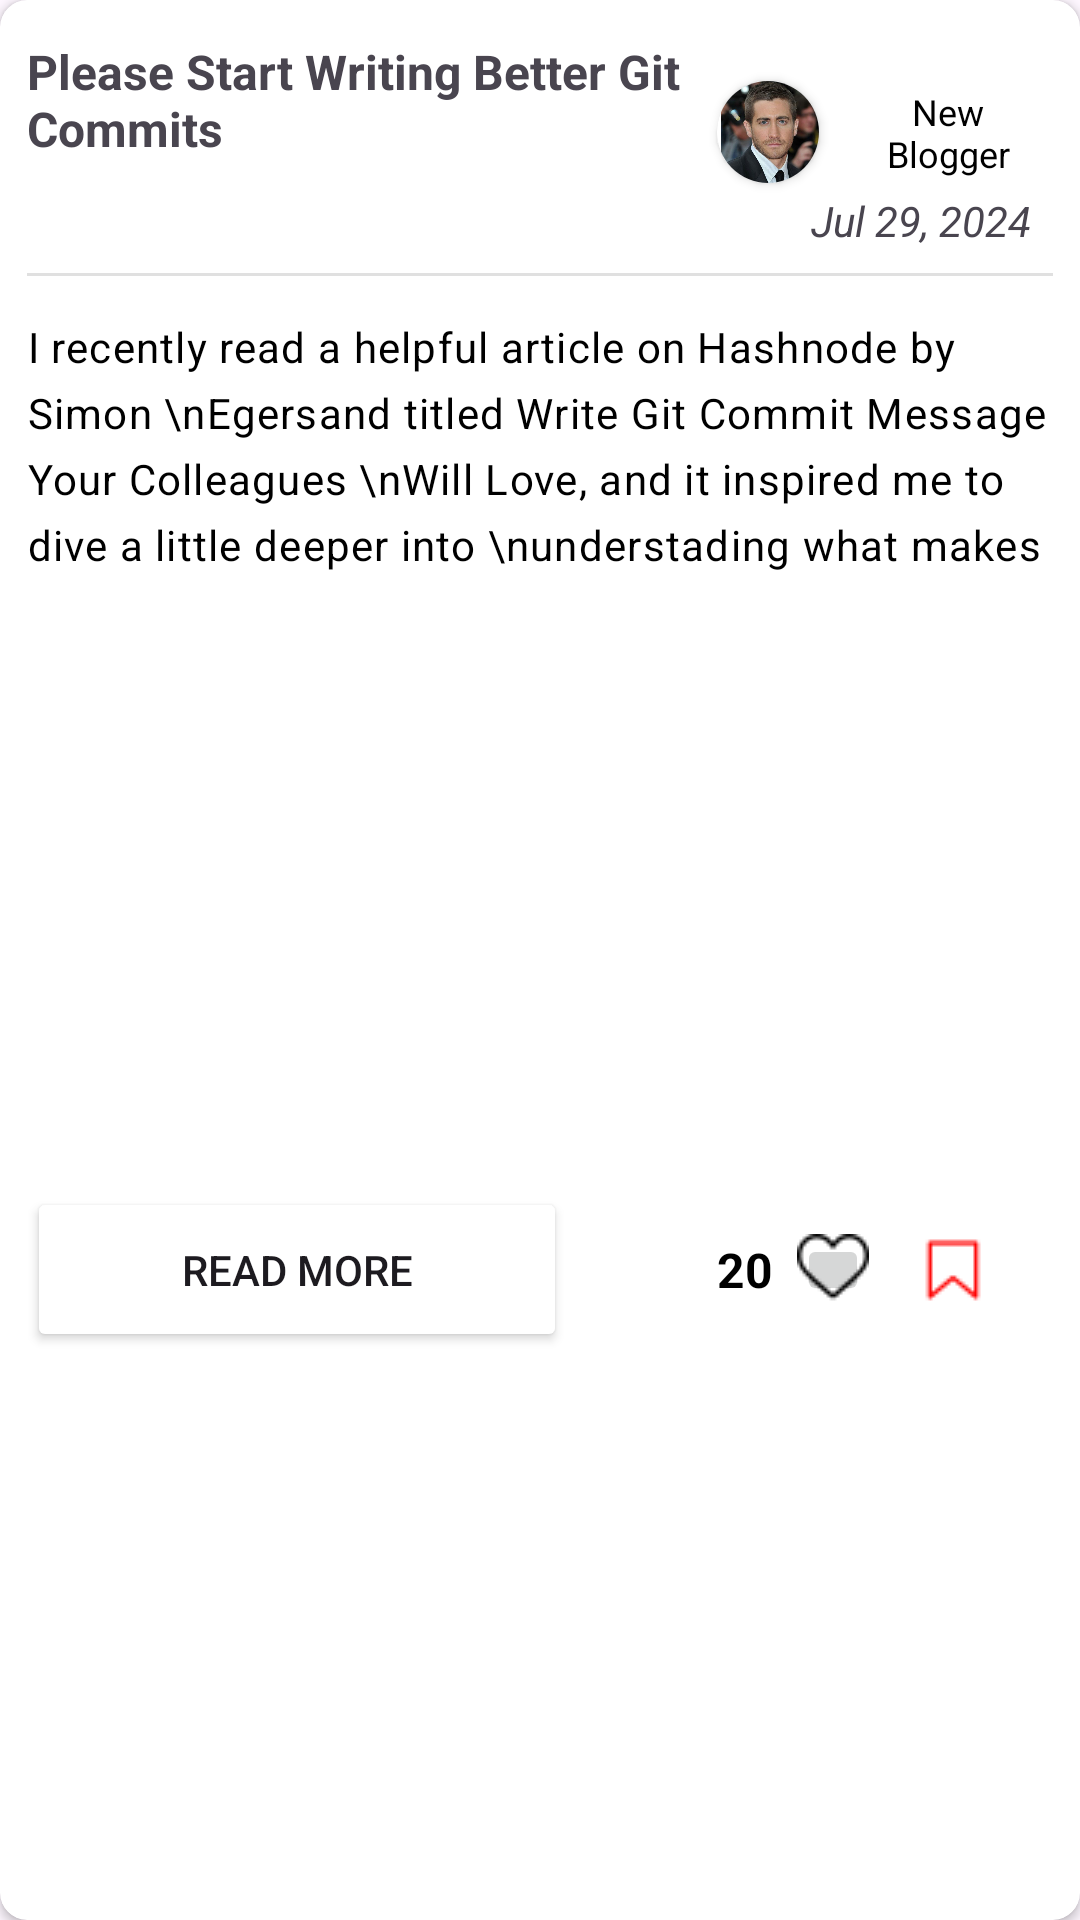

Named icons in this screenshot (1080×1920) and their centers, [x,y]:
heart: [833,1267]
profile: [770,132]
unsave: [953,1270]
